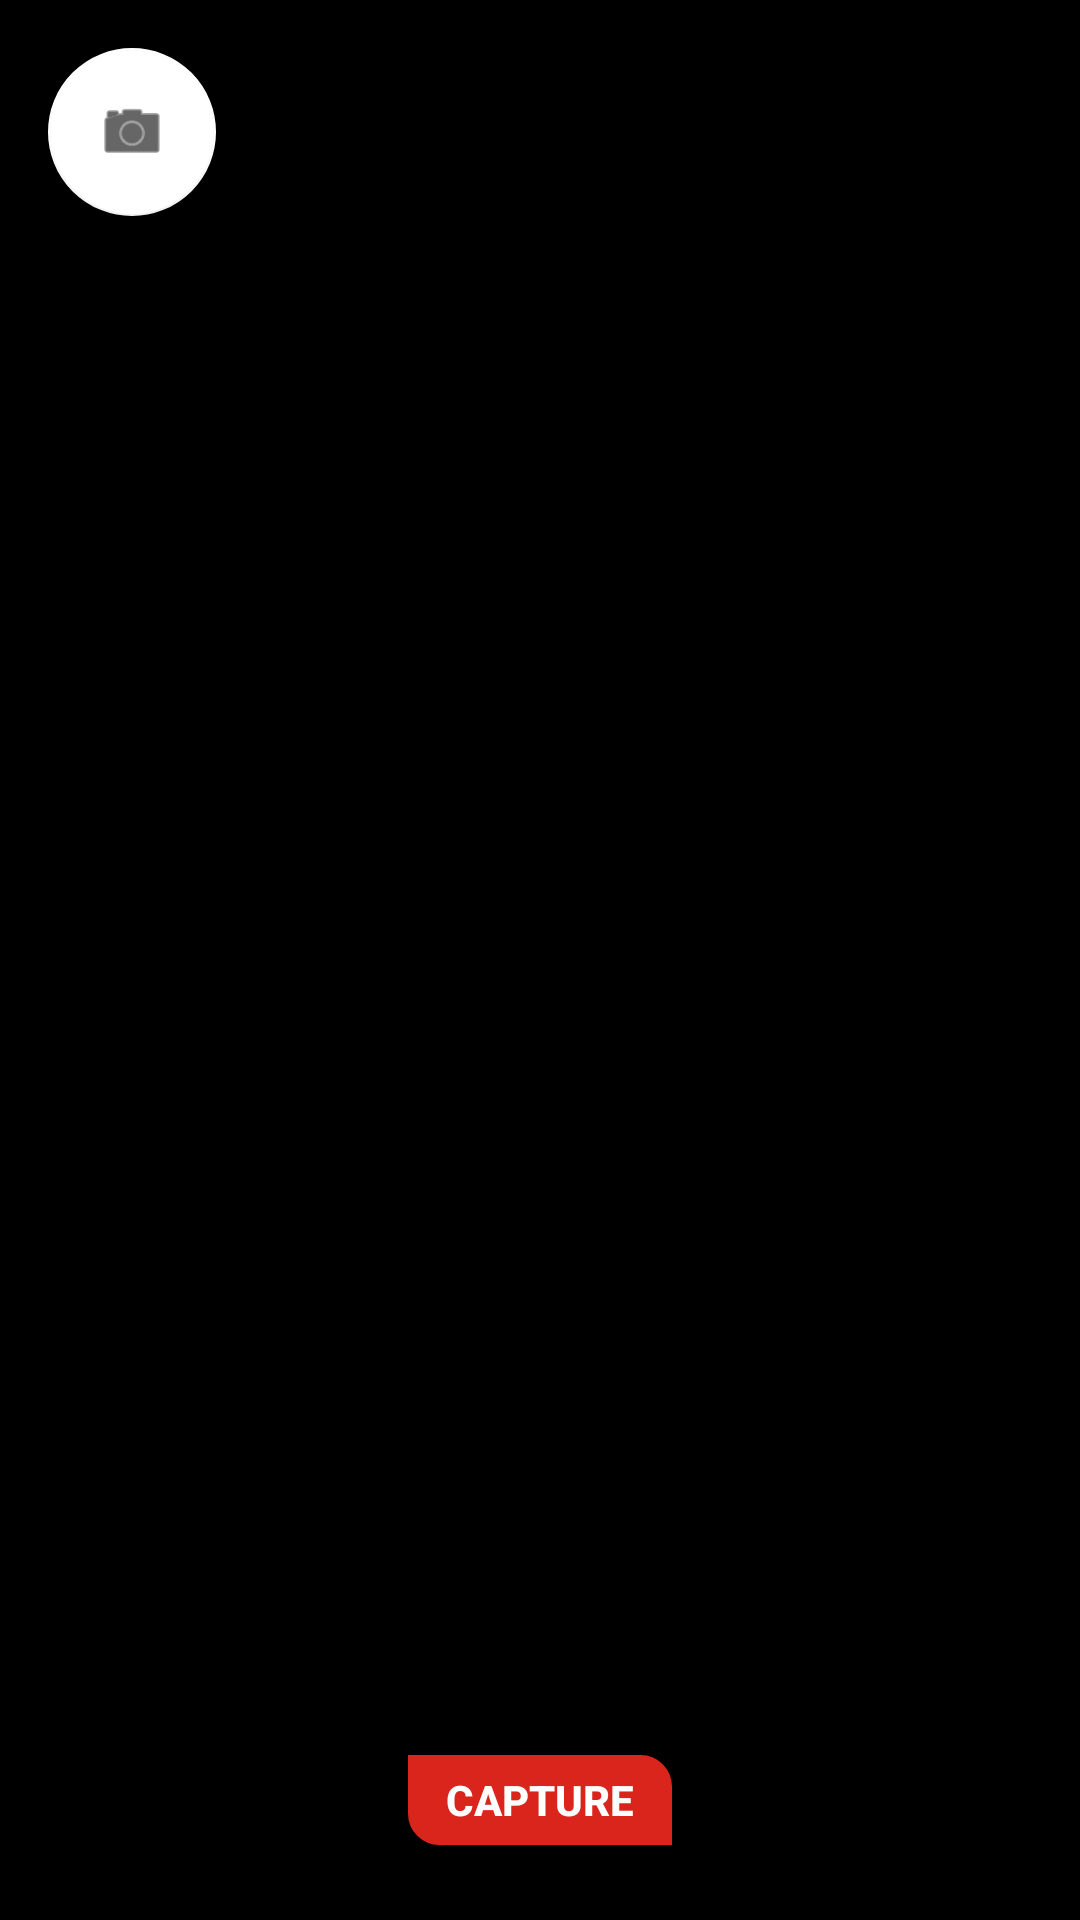

Where icons sit on this 1080px x 1920px app screen, as (x1, y1, x2, y2):
camera: (48, 48, 216, 216)
